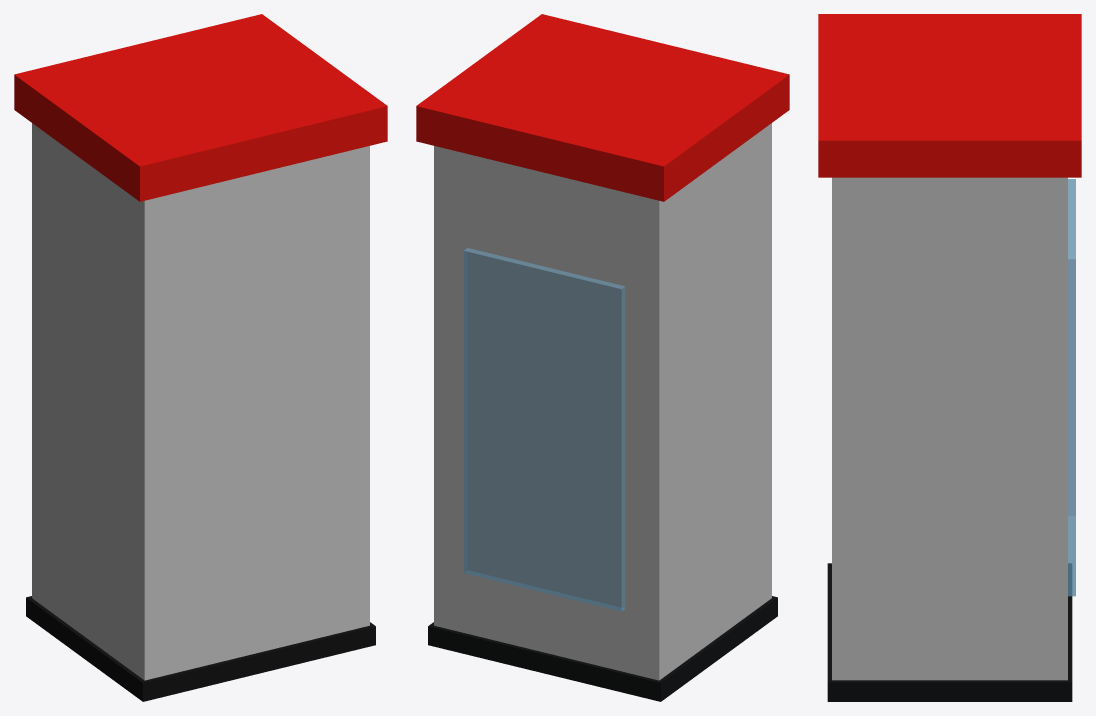
File: phone_booth.obj
3 views of the same model, side by side, from view 1: azimuth 30°, elevation 25°; view 2: azimuth 150°, elevation 25°; view 3: azimuth 270°, elevation 25° (orthographic). The views are drawn at different scales.
Visible parts, largest first — view 1: phone_booth; view 2: phone_booth; view 3: phone_booth.
Boxes of the visible parts, <box> form: phone_booth: <box>14,14,387,701</box>; phone_booth: <box>416,14,789,701</box>; phone_booth: <box>818,14,1081,701</box>.
Size of the model in its own units: 3.3 by 6.88 by 2.9.
